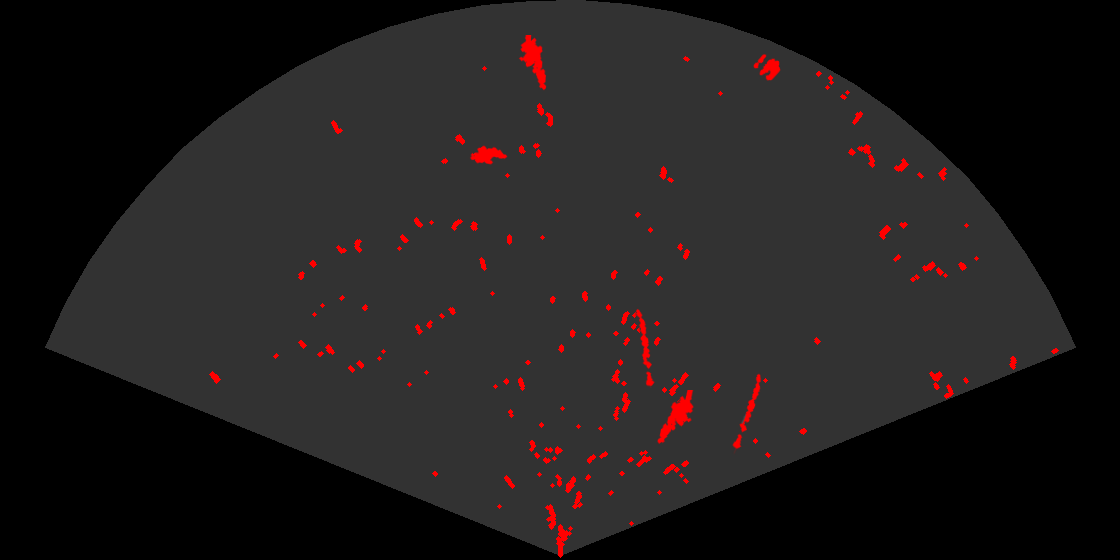AUV: (468, 144, 509, 166)
ball: (752, 53, 782, 82)
chain: (731, 372, 763, 455), (634, 307, 656, 388)
frogman: (656, 390, 695, 446), (517, 35, 548, 91)
